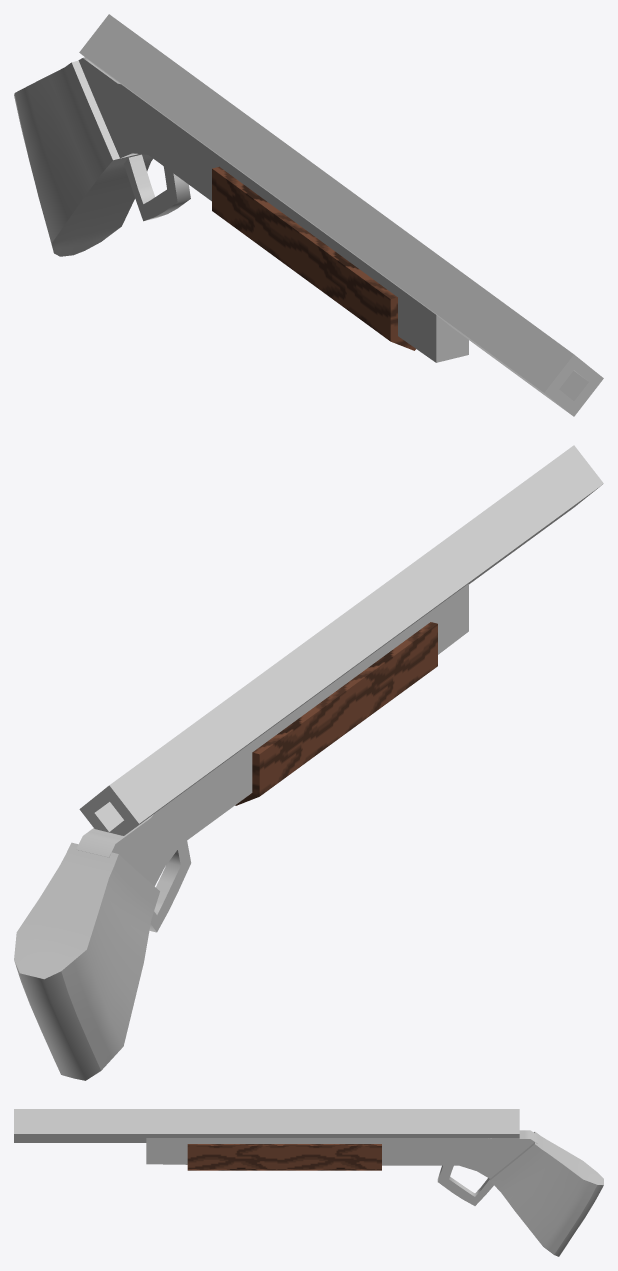
Rendered from shotgun.fbx.
3 renders of one model, top to bottom at view 1: azimuth 30°, elevation 25°; view 2: azimuth 150°, elevation 25°; view 3: azimuth 270°, elevation 25°, orthographic. The views are drawn at different scales.
Parts seen in each view (by area): view 1: polySurface2, polySurface1; view 2: polySurface2, polySurface1; view 3: polySurface2, polySurface1.
Boxes of the visible parts, left/top/right/bottom form: polySurface2: left=14, top=14, right=603, bottom=416; polySurface1: left=212, top=166, right=415, bottom=350; polySurface2: left=14, top=445, right=603, bottom=1080; polySurface1: left=235, top=622, right=437, bottom=805; polySurface2: left=14, top=1109, right=603, bottom=1256; polySurface1: left=187, top=1144, right=381, bottom=1170.
Size of the model in its own units: 0.586 by 2.13 by 7.83.
